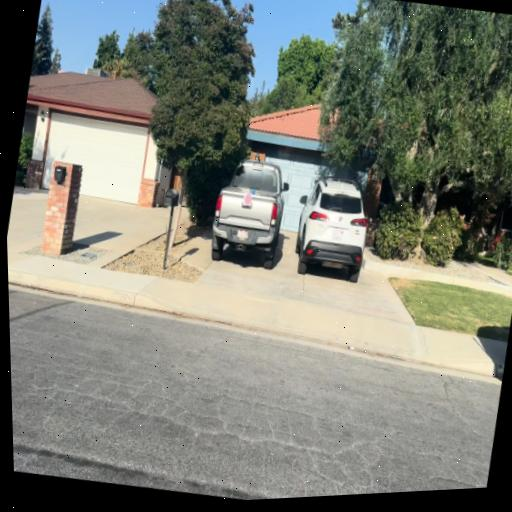bullseye: (243, 193, 252, 205)
